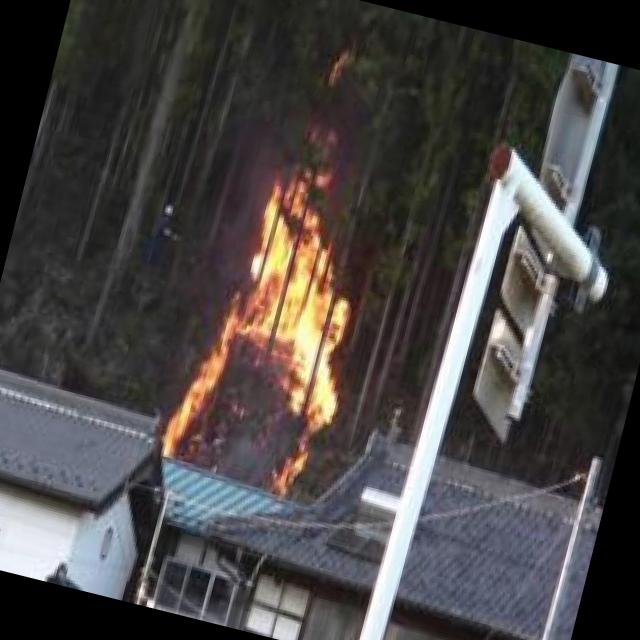Fire: (170, 154, 390, 501)
